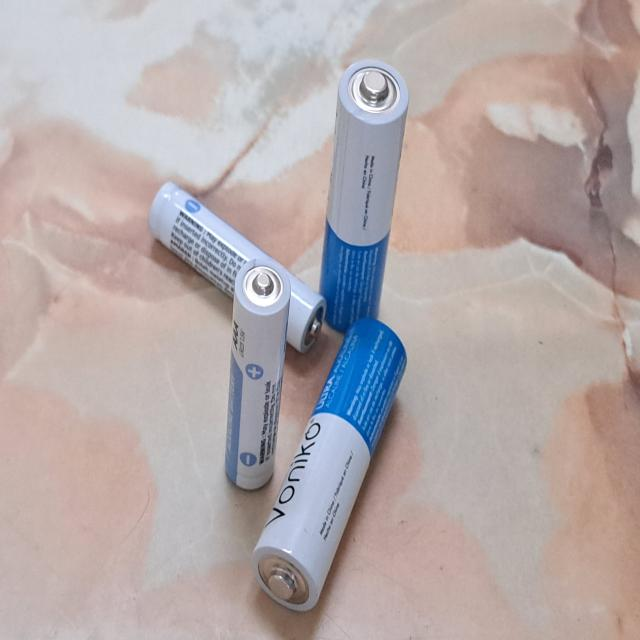battery: (250, 320, 410, 615), (148, 179, 326, 354), (317, 59, 412, 334), (225, 258, 291, 489)
